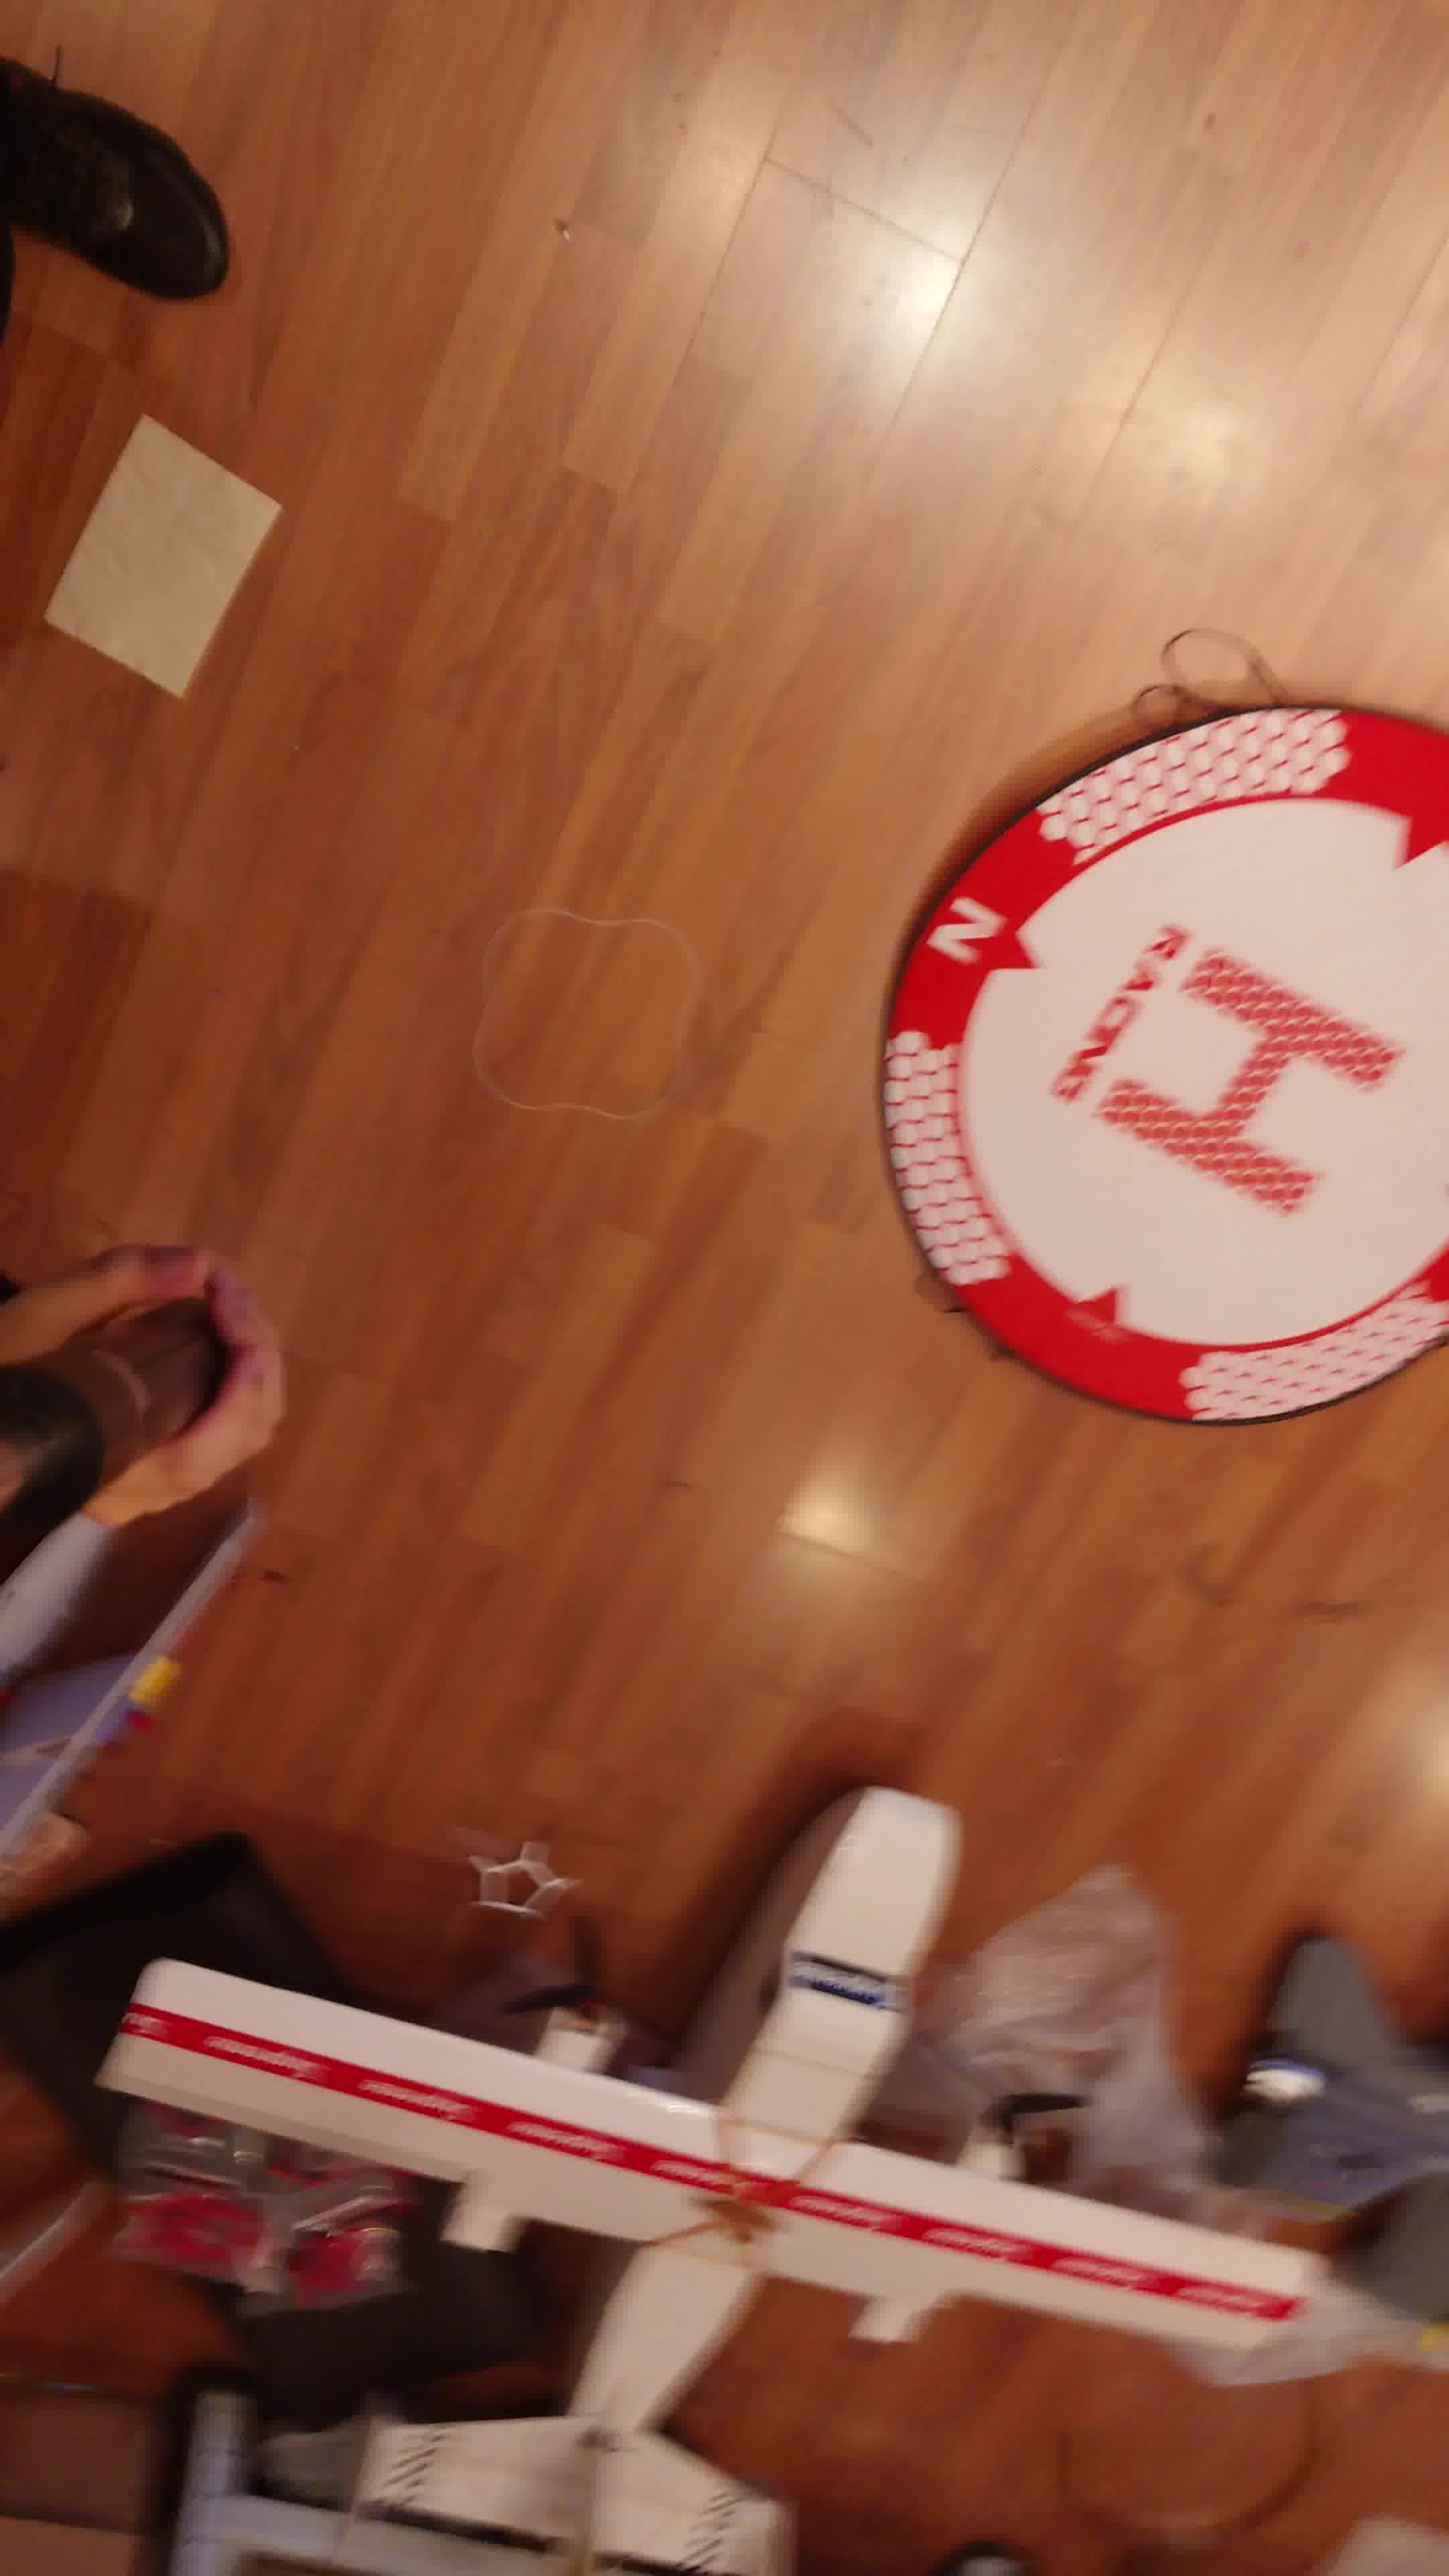H: (1088, 952, 1401, 1217)
